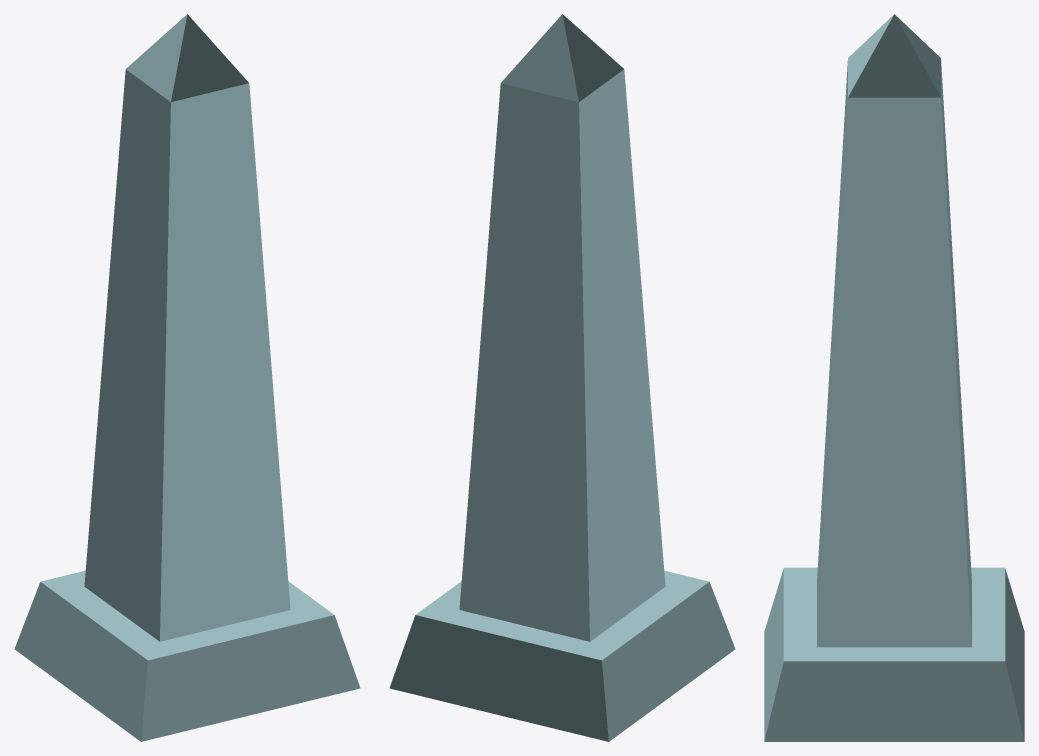
Rendered from stone_obelisk.obj.
3 views of the same model, side by side, from view 1: azimuth 30°, elevation 25°; view 2: azimuth 150°, elevation 25°; view 3: azimuth 270°, elevation 25° (orthographic). The views are drawn at different scales.
Parts seen in each view (by area): view 1: stone_obelisk; view 2: stone_obelisk; view 3: stone_obelisk.
Part boxes in pixels (x1,y1,x2,y2): stone_obelisk: [14, 14, 360, 741]; stone_obelisk: [389, 14, 735, 741]; stone_obelisk: [764, 14, 1024, 741].
Size of the model in its own units: 2.24 by 6.39 by 2.24.
